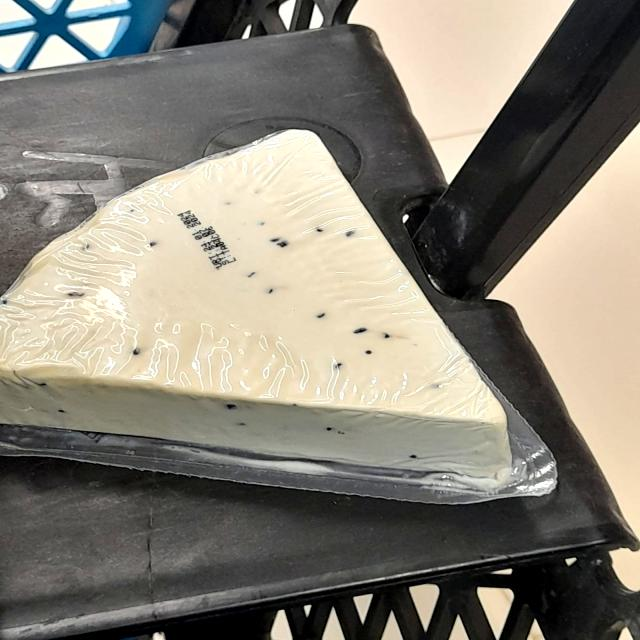cheese: (8, 129, 517, 502)
